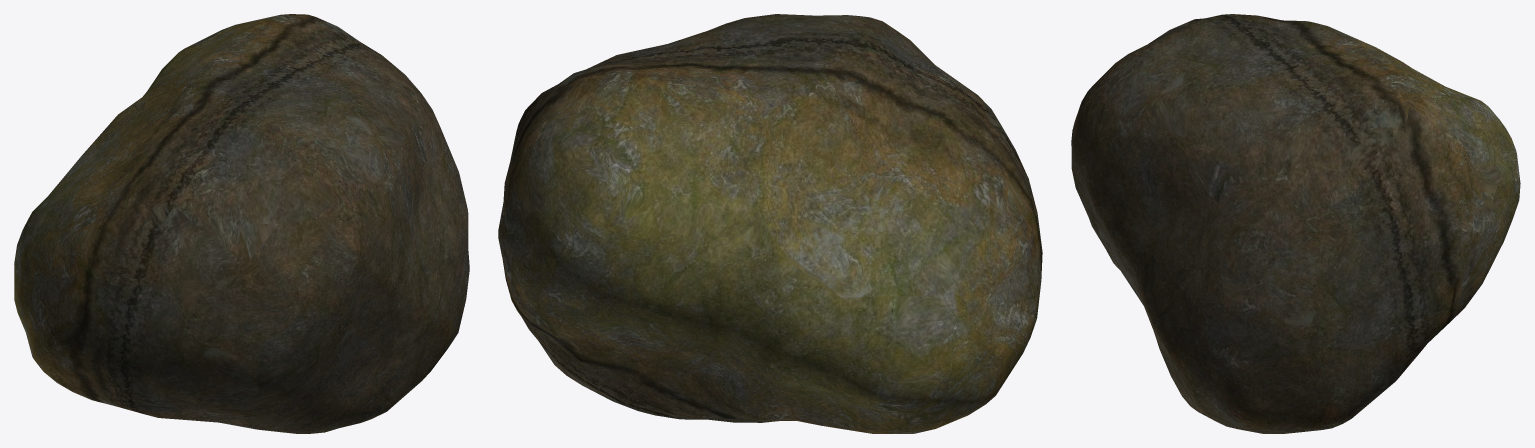
3 renders of one model, left to right at view 1: azimuth 30°, elevation 25°; view 2: azimuth 150°, elevation 25°; view 3: azimuth 270°, elevation 25°, orthographic. The views are drawn at different scales.
Parts seen in each view (by area): view 1: rock.003; view 2: rock.003; view 3: rock.003.
Boxes of the visible parts, x1=… form: rock.003: x1=14, y1=14, x2=469, y2=433; rock.003: x1=498, y1=14, x2=1042, y2=433; rock.003: x1=1071, y1=14, x2=1520, y2=433.
Bounding box in the file's own units: 0.5 × 0.3796 × 0.4482.
1 material, 1 textured.
